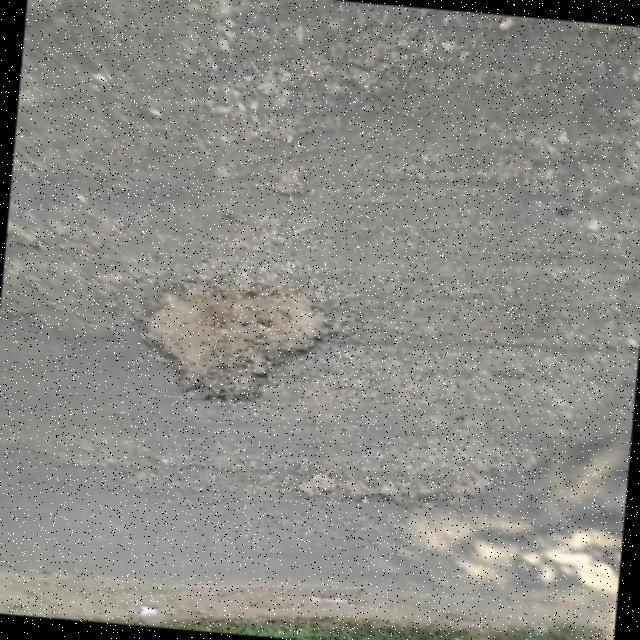Pothole: (137, 267, 326, 404)
